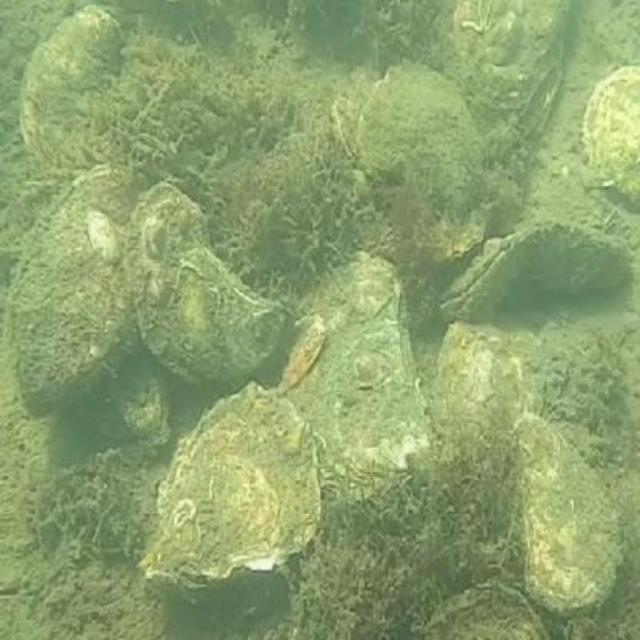Oyster-Indeterminate: (137, 384, 320, 595), (125, 181, 296, 393), (9, 164, 151, 419), (289, 249, 430, 501), (358, 63, 489, 266), (510, 408, 623, 613), (442, 216, 630, 316), (26, 9, 120, 177), (435, 321, 545, 438), (453, 0, 574, 103), (586, 65, 640, 204), (425, 584, 543, 640), (338, 87, 369, 157)
